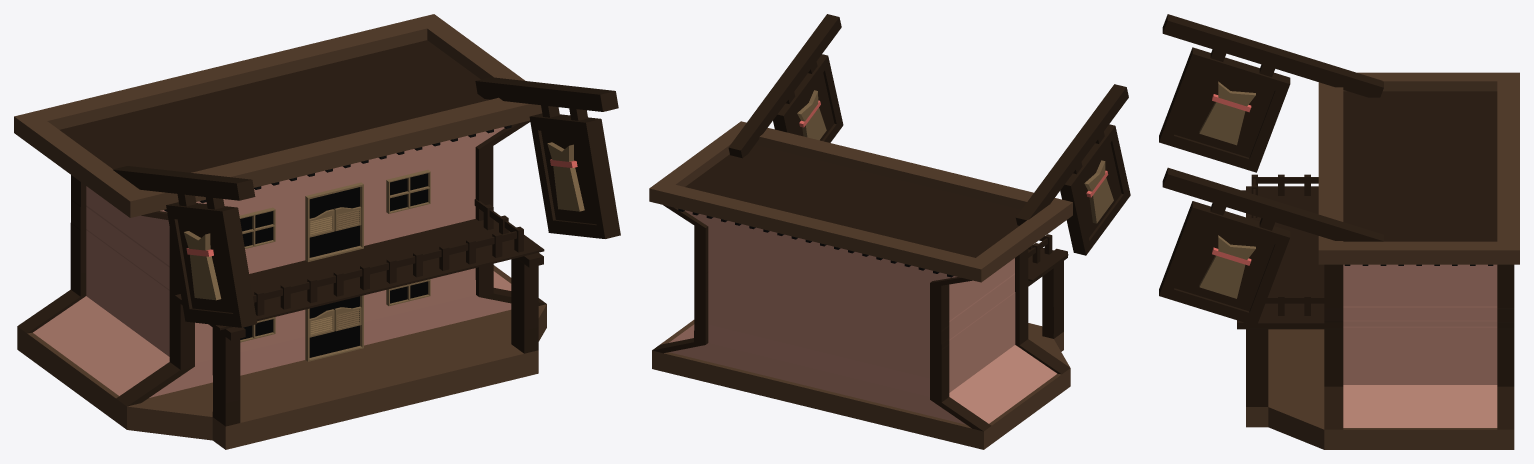
Rendered from Store.fbx.
3 views of the same model, side by side, from view 1: azimuth 30°, elevation 25°; view 2: azimuth 150°, elevation 25°; view 3: azimuth 270°, elevation 25° (orthographic). The views are drawn at different scales.
Visible parts, largest first — view 1: Cube, Cube.004, Cube.001, Cube.022, Plane, Plane.003, Cube.002, Cube.003, Cube.008, Plane.002, Cube.005, Cube.011 (+3 smaller); view 2: Cube, Cube.001, Cube.004, Cube.002, Cube.003; view 3: Cube, Cube.001, Cube.004, Cube.003, Cube.002, Cube.019, Cube.020.
Boxes of the visible parts, bbox=[...] form: Cube: bbox=[14, 14, 546, 449]; Cube.004: bbox=[475, 77, 620, 238]; Cube.001: bbox=[113, 166, 257, 327]; Cube.022: bbox=[254, 231, 516, 315]; Plane: bbox=[309, 187, 359, 257]; Plane.003: bbox=[240, 173, 427, 246]; Cube.002: bbox=[184, 231, 221, 300]; Cube.003: bbox=[547, 142, 584, 211]; Cube.008: bbox=[305, 182, 363, 261]; Plane.002: bbox=[309, 296, 359, 357]; Cube.005: bbox=[239, 170, 430, 248]; Cube.011: bbox=[305, 295, 363, 361]; Cube: bbox=[649, 121, 1072, 449]; Cube.001: bbox=[1015, 84, 1130, 255]; Cube.004: bbox=[728, 14, 843, 158]; Cube.002: bbox=[1084, 160, 1113, 223]; Cube.003: bbox=[797, 90, 826, 140]; Cube: bbox=[1237, 72, 1519, 449]; Cube.001: bbox=[1159, 14, 1383, 172]; Cube.004: bbox=[1159, 167, 1383, 326]; Cube.003: bbox=[1199, 235, 1255, 298]; Cube.002: bbox=[1199, 81, 1255, 145]; Cube.019: bbox=[1251, 174, 1318, 195]; Cube.020: bbox=[1265, 294, 1324, 315].
Bounding box in the file's own units: 3758 × 2632 × 3229.
